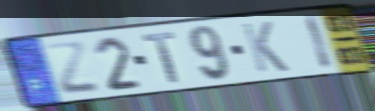2: (93, 34, 144, 93)
9: (189, 23, 233, 83)
I: (303, 12, 336, 72)
K: (239, 19, 292, 74)
T: (140, 30, 182, 85)
Z: (42, 40, 103, 97)
